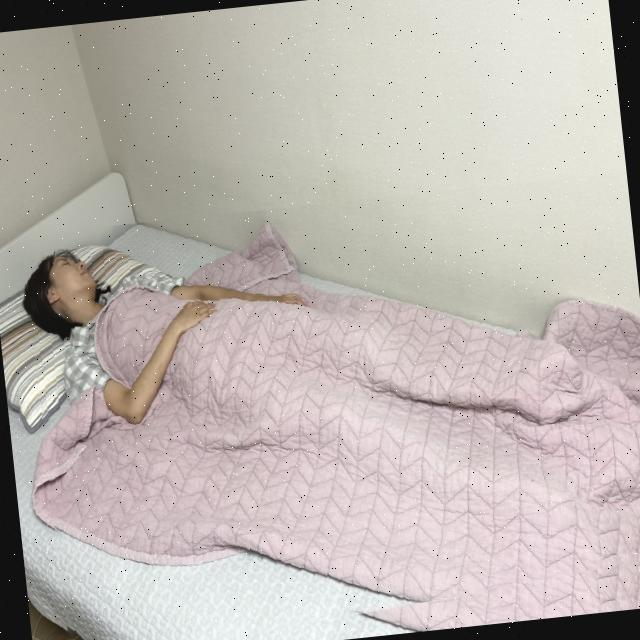people: (19, 171, 640, 640)
